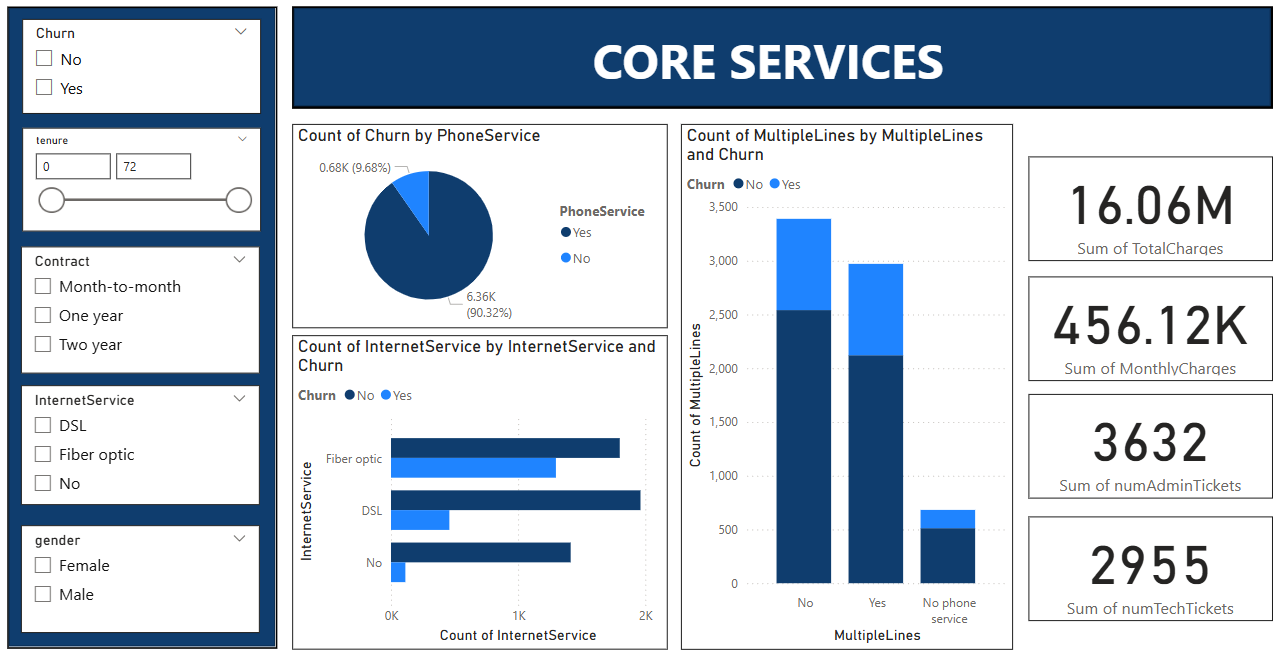

What the dashboard file says about the page in this screenshot:
{"tool":"powerbi","page":{"name":"Core services","canvas":[1280,720],"ordinal":2},"visuals":[{"type":"card","fields":{"Values":["Sum(01 Churn-Dataset.MonthlyCharges)"]},"box":[1027.8,300.5,242.9,104.3],"z":0},{"type":"pieChart","fields":{"Category":["01 Churn-Dataset.PhoneService"],"Y":["CountNonNull(01 Churn-Dataset.Churn)"]},"box":[295,149.6,373.2,203.1],"z":1000},{"type":"card","fields":{"Values":["Sum(01 Churn-Dataset.numAdminTickets)"]},"box":[1027.8,418.5,242.9,104.3],"z":2000},{"type":"card","title":"Tech Tickets","fields":{"Values":["Sum(01 Churn-Dataset.numTechTickets)"]},"box":[1027.8,539.3,242.9,104.3],"z":3000},{"type":"group","id":"g1","title":"Group 1","box":[11,32.9,269,639.5],"z":4000},{"type":"shape","box":[11,32.9,269,639.5],"z":4000,"group":"g1"},{"type":"group","id":"g2","title":"Group 2","box":[295,32.9,975.6,101.5],"z":5000},{"type":"shape","box":[295,32.9,975.6,101.5],"z":5000,"group":"g2"},{"type":"slicer","fields":{"Values":["01 Churn-Dataset.Churn"]},"box":[26.1,45.2,237.4,94.7],"z":5000,"group":"g1"},{"type":"textbox","box":[425.4,48,686.1,86.4],"z":6000,"group":"g2"},{"type":"slicer","fields":{"Values":["01 Churn-Dataset.tenure"]},"box":[26.1,153.7,237.4,102.9],"z":6000,"group":"g1"},{"type":"card","fields":{"Values":["Sum(01 Churn-Dataset.TotalCharges)"]},"box":[1027.8,181.1,242.9,104.3],"z":6000},{"type":"columnChart","fields":{"Category":["01 Churn-Dataset.MultipleLines"],"Y":["CountNonNull(01 Churn-Dataset.MultipleLines)"],"Series":["01 Churn-Dataset.Churn"]},"box":[682,149.6,330.7,522.8],"z":7000},{"type":"slicer","fields":{"Values":["01 Churn-Dataset.Contract"]},"box":[24.7,271.7,237.4,126.2],"z":7000,"group":"g1"},{"type":"clusteredBarChart","fields":{"Category":["01 Churn-Dataset.InternetService"],"Y":["CountNonNull(01 Churn-Dataset.InternetService)"],"Series":["01 Churn-Dataset.Churn"]},"box":[295,359.5,373.2,312.9],"z":8000},{"type":"slicer","fields":{"Values":["01 Churn-Dataset.InternetService"]},"box":[24.7,410.3,237.4,119.4],"z":8000,"group":"g1"},{"type":"slicer","fields":{"Values":["01 Churn-Dataset.gender"]},"box":[24.7,548.9,237.4,107],"z":9000,"group":"g1"}]}

Visuals, with their boxes on the page's 1280x720 design canvas (x1, y1, x2, y2). These are canvas units, not pixel positions in the 1275x662 screenshot, which may show the page scaled, cropped or inside an application window:
card - Sum(01 Churn-Dataset.MonthlyCharges): bbox(1028, 300, 1271, 405)
pieChart - 01 Churn-Dataset.PhoneService x CountNonNull(01 Churn-Dataset.Churn): bbox(295, 150, 668, 353)
card - Sum(01 Churn-Dataset.numAdminTickets): bbox(1028, 418, 1271, 523)
"Tech Tickets" card: bbox(1028, 539, 1271, 644)
"Group 1" group: bbox(11, 33, 280, 672)
shape: bbox(11, 33, 280, 672)
"Group 2" group: bbox(295, 33, 1271, 134)
shape: bbox(295, 33, 1271, 134)
slicer - 01 Churn-Dataset.Churn: bbox(26, 45, 264, 140)
textbox: bbox(425, 48, 1112, 134)
slicer - 01 Churn-Dataset.tenure: bbox(26, 154, 264, 257)
card - Sum(01 Churn-Dataset.TotalCharges): bbox(1028, 181, 1271, 285)
columnChart - 01 Churn-Dataset.MultipleLines x CountNonNull(01 Churn-Dataset.MultipleLines): bbox(682, 150, 1013, 672)
slicer - 01 Churn-Dataset.Contract: bbox(25, 272, 262, 398)
clusteredBarChart - 01 Churn-Dataset.InternetService x CountNonNull(01 Churn-Dataset.InternetService): bbox(295, 360, 668, 672)
slicer - 01 Churn-Dataset.InternetService: bbox(25, 410, 262, 530)
slicer - 01 Churn-Dataset.gender: bbox(25, 549, 262, 656)
